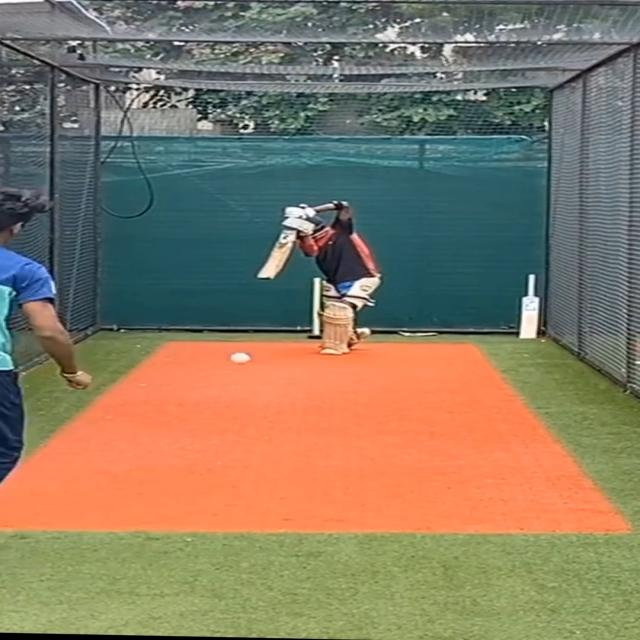ball: (228, 349, 255, 368)
